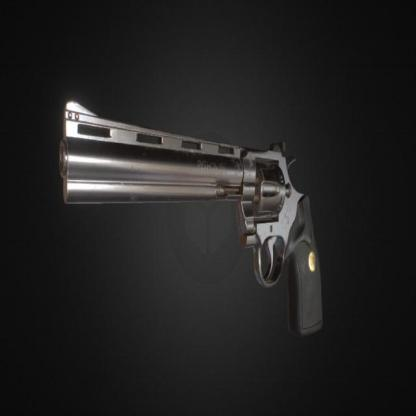handgun: (63, 100, 327, 346)
